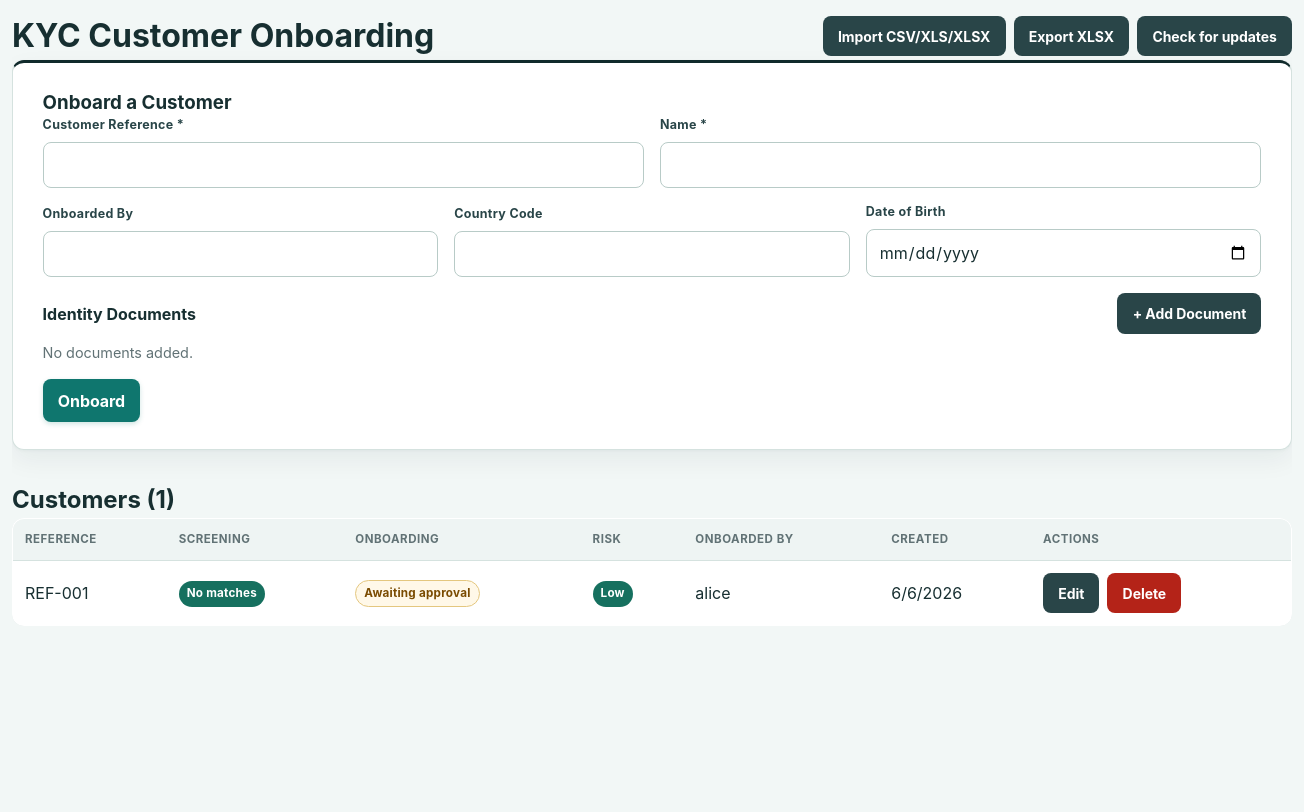
Scenario: CustomersPage › action error surfaces › surfaces a risk-change failure
Expected: the text "REF-001" is shown, [12, 561, 167, 626]
Click the button with aria-label "Edit REF-001" at (1071, 593), box [1043, 573, 1100, 613]
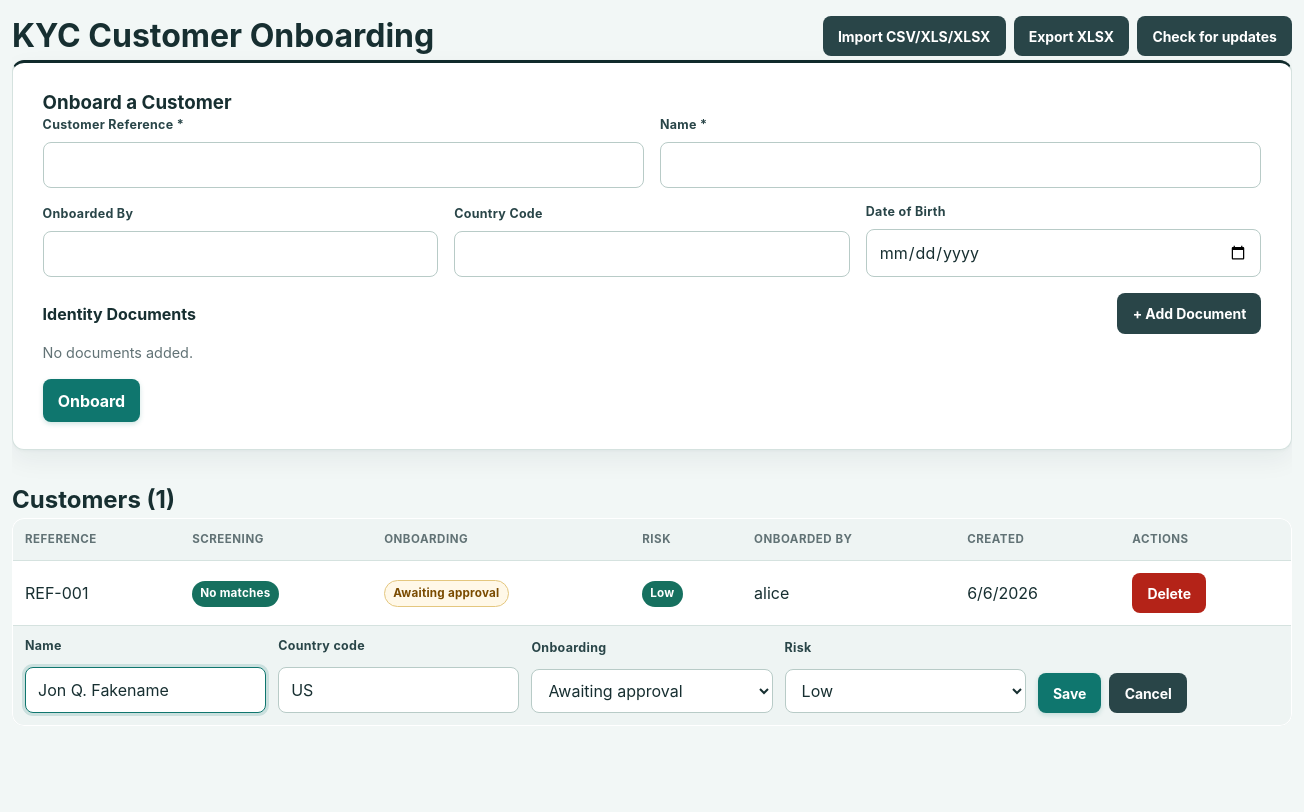
Select "Medium" in the dropdown named "risk for REF-001" at (905, 691), box [785, 668, 1026, 713]
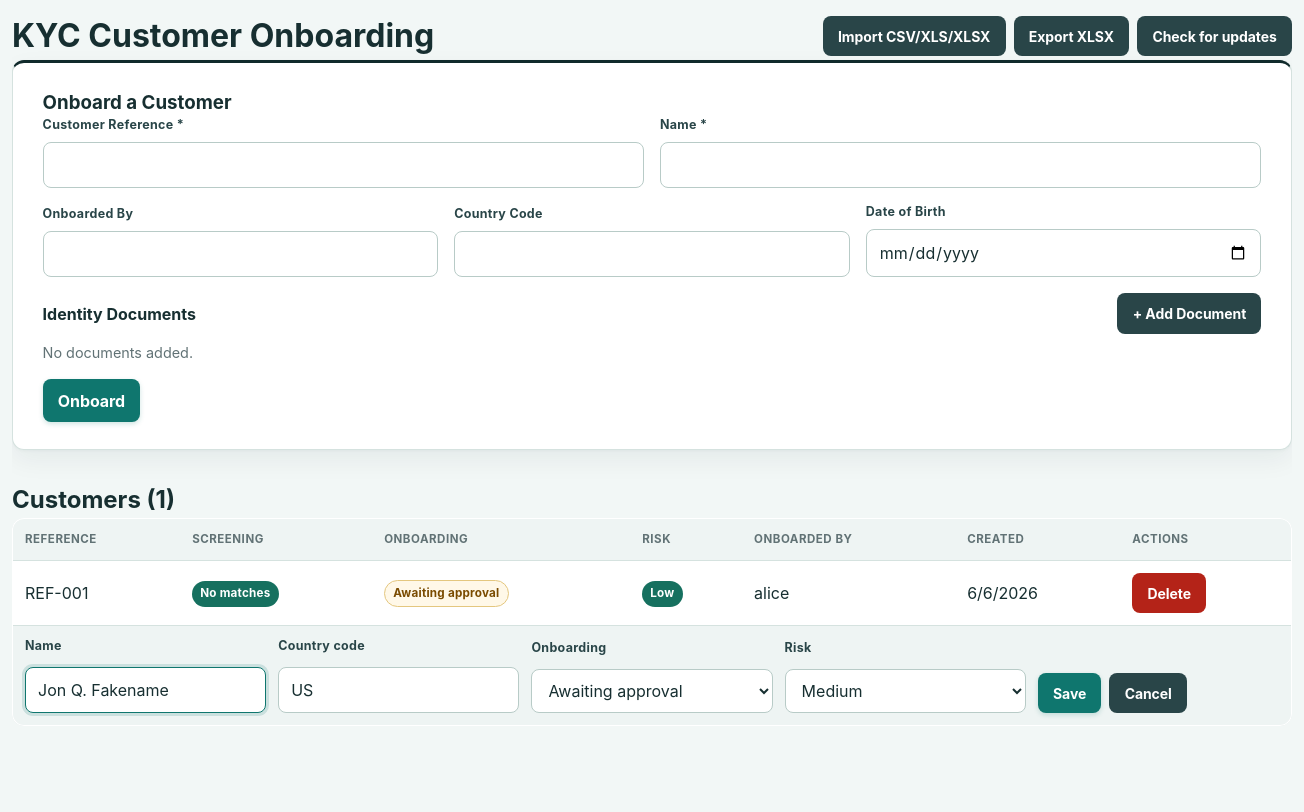
Click the button "Save" at (1070, 693), box [1038, 673, 1101, 713]
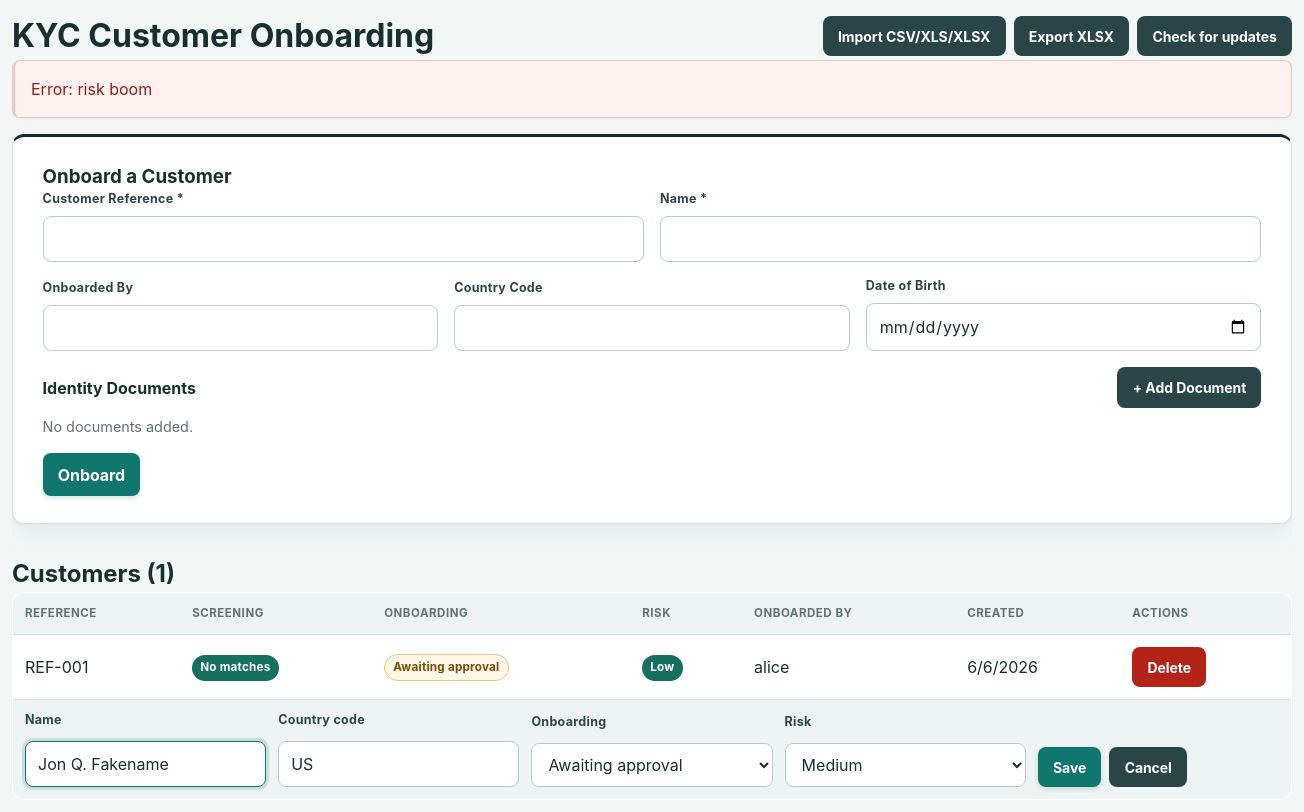
Expected: the text "Error: risk boom" is shown, [12, 60, 1292, 118]
